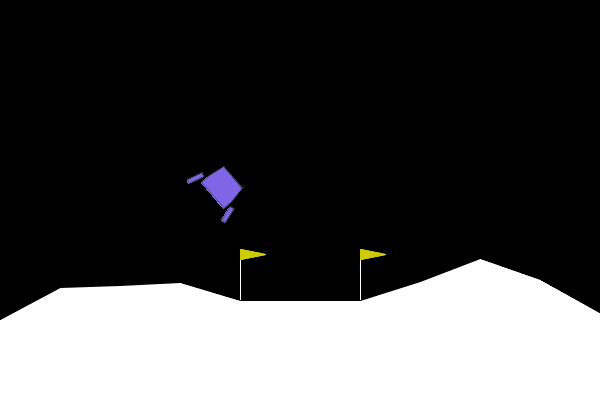lander: (184, 154, 254, 225)
